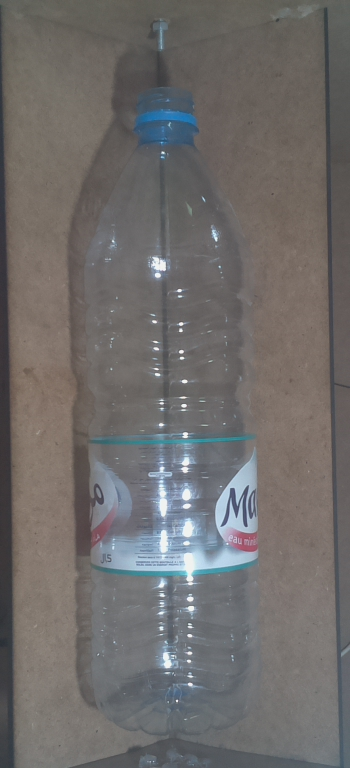Bouteille_1.5L: (66, 76, 276, 746)
